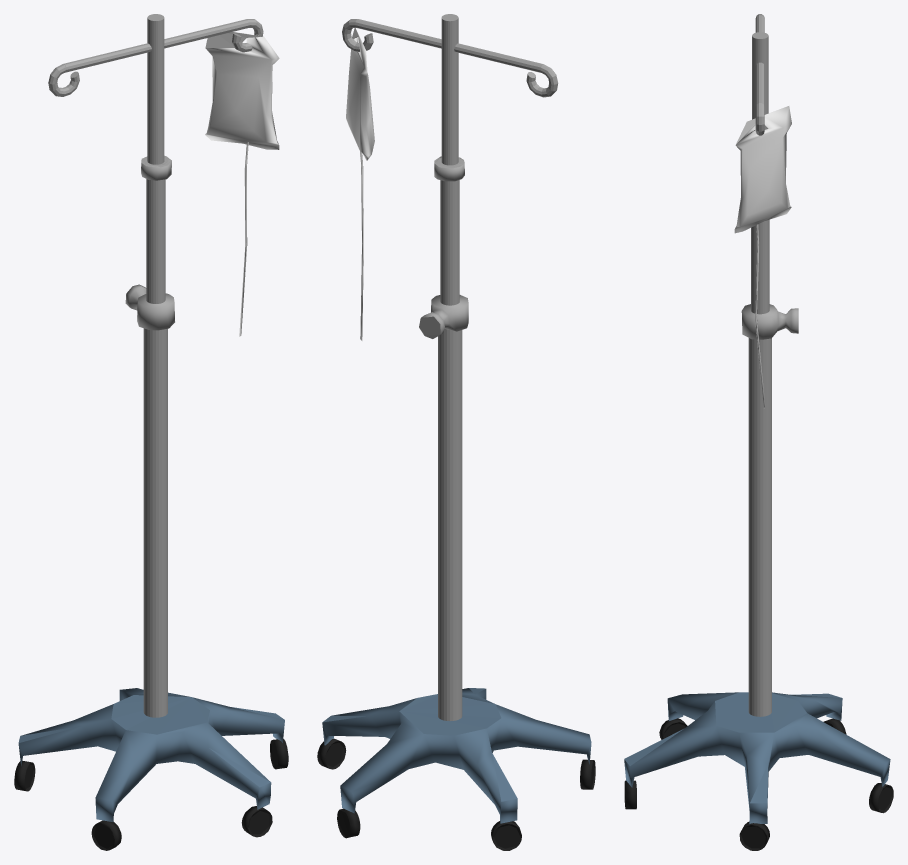
Rendered from iv_pole.dae.
3 renders of one model, left to right at view 1: azimuth 30°, elevation 25°; view 2: azimuth 150°, elevation 25°; view 3: azimuth 270°, elevation 25°, orthographic. The views are drawn at different scales.
Visible parts, largest first — view 1: Cylinder032.001, Cylinder.002, ivbag.001, Cylinder.001, Cylinder034.001, Cylinder, 11, Cylinder.004, Cylinder.003; view 2: Cylinder032.001, Cylinder.002, Cylinder.001, Cylinder, Cylinder034.001, ivbag.001, 11, Cylinder.004, Cylinder.003; view 3: Cylinder032.001, Cylinder.002, ivbag.001, Cylinder034.001, Cylinder, 11, Cylinder.001, Cylinder.004.
Part boxes in pixels (x1,y1,x2,y2): Cylinder032.001: [18, 688, 284, 822]; Cylinder.002: [143, 328, 167, 717]; ivbag.001: [205, 32, 279, 149]; Cylinder.001: [147, 14, 164, 164]; Cylinder034.001: [14, 739, 288, 850]; Cylinder: [146, 179, 165, 303]; 11: [125, 155, 174, 330]; Cylinder.004: [63, 19, 249, 71]; Cylinder.003: [48, 19, 263, 96]; Cylinder032.001: [322, 688, 591, 823]; Cylinder.002: [438, 329, 462, 720]; Cylinder.001: [441, 14, 458, 165]; Cylinder: [440, 180, 459, 305]; Cylinder034.001: [317, 738, 595, 850]; ivbag.001: [346, 28, 374, 160]; 11: [419, 156, 468, 338]; Cylinder.004: [355, 19, 542, 71]; Cylinder.003: [342, 19, 558, 97]; Cylinder032.001: [624, 692, 890, 823]; Cylinder.002: [748, 338, 771, 716]; ivbag.001: [734, 106, 791, 233]; Cylinder034.001: [624, 718, 893, 850]; Cylinder: [751, 219, 769, 314]; 11: [741, 304, 798, 339]; Cylinder.001: [752, 32, 768, 129]; Cylinder.004: [755, 15, 764, 106].
Size of the model in its own units: 0.4107 by 0.4191 by 1.3.
